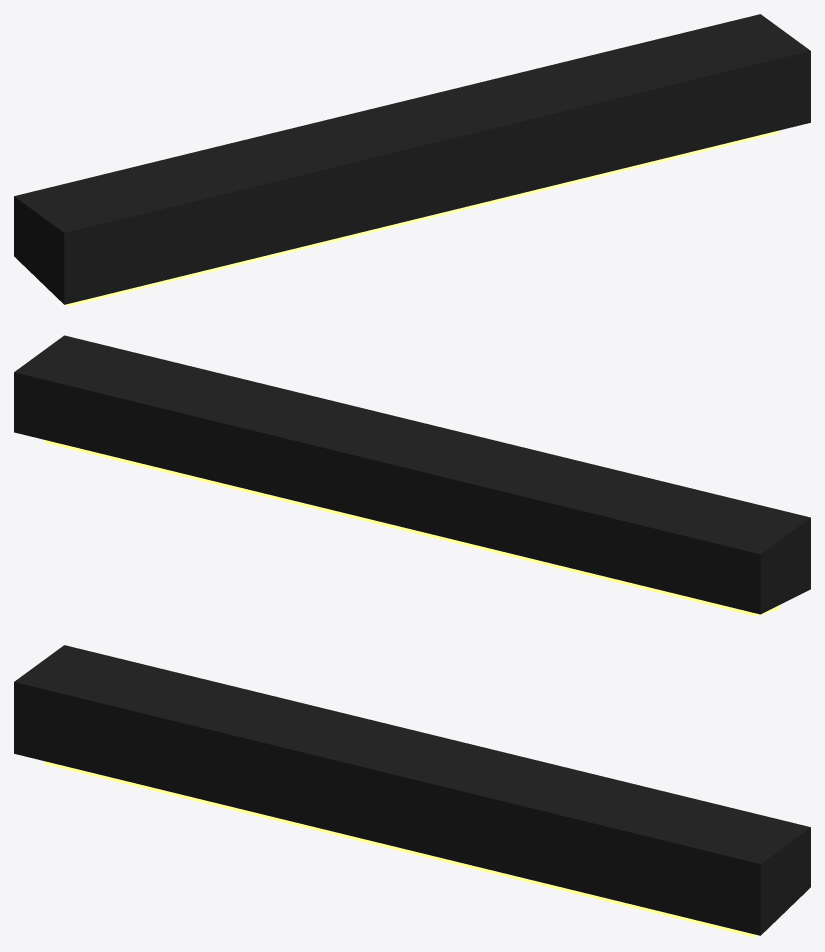
The model's file is lamp_1.glb.
3 renders of one model, top to bottom at view 1: azimuth 30°, elevation 25°; view 2: azimuth 150°, elevation 25°; view 3: azimuth 330°, elevation 25°, orthographic.
Parts seen in each view (by area): view 1: Wall Light 3; view 2: Wall Light 3; view 3: Wall Light 3.
Boxes of the visible parts, <box> form: Wall Light 3: <box>14,14,810,306</box>; Wall Light 3: <box>14,335,810,616</box>; Wall Light 3: <box>14,645,810,937</box>.
Bounding box in the file's own units: 0.9891 × 0.1107 × 0.1157.
Materials: 2 (1 with a texture image).
